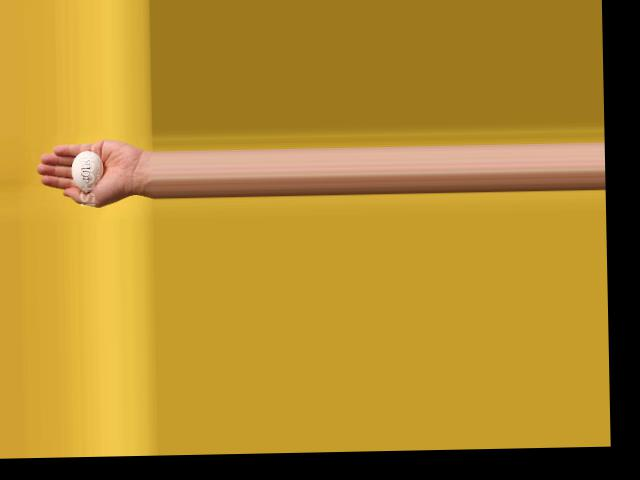egg: (71, 150, 103, 192)
